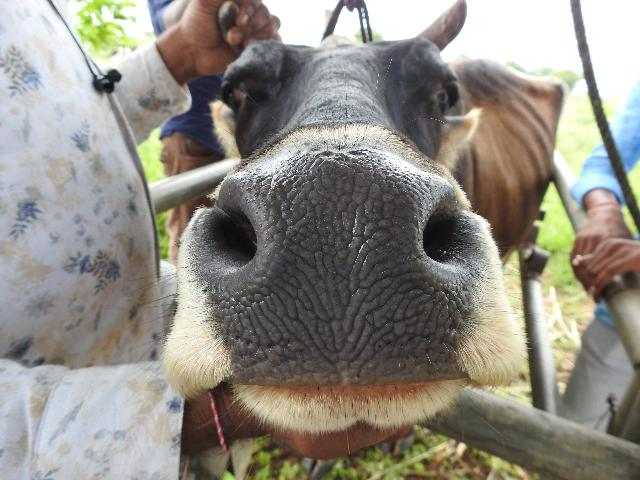Muzzle: (218, 163, 454, 381)
